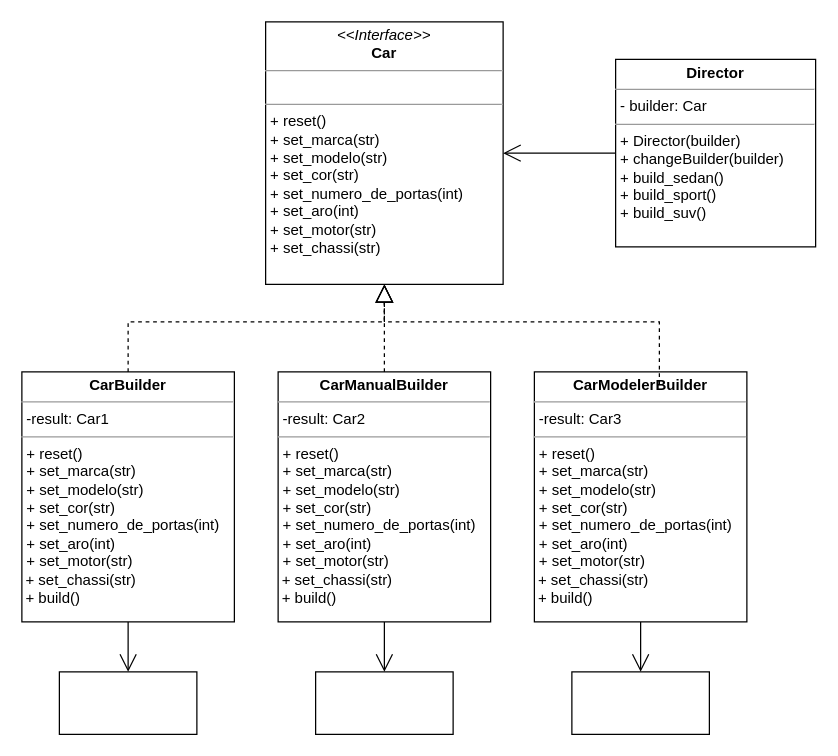
Image size: 838x756. Some labels were removed from this diagram. Here are the shapes that lost their labels. From the top down, the box of each, then its label:
(58, 671, 197, 734): Car1
(314, 671, 453, 734): Car2
(571, 671, 709, 734): Car3
